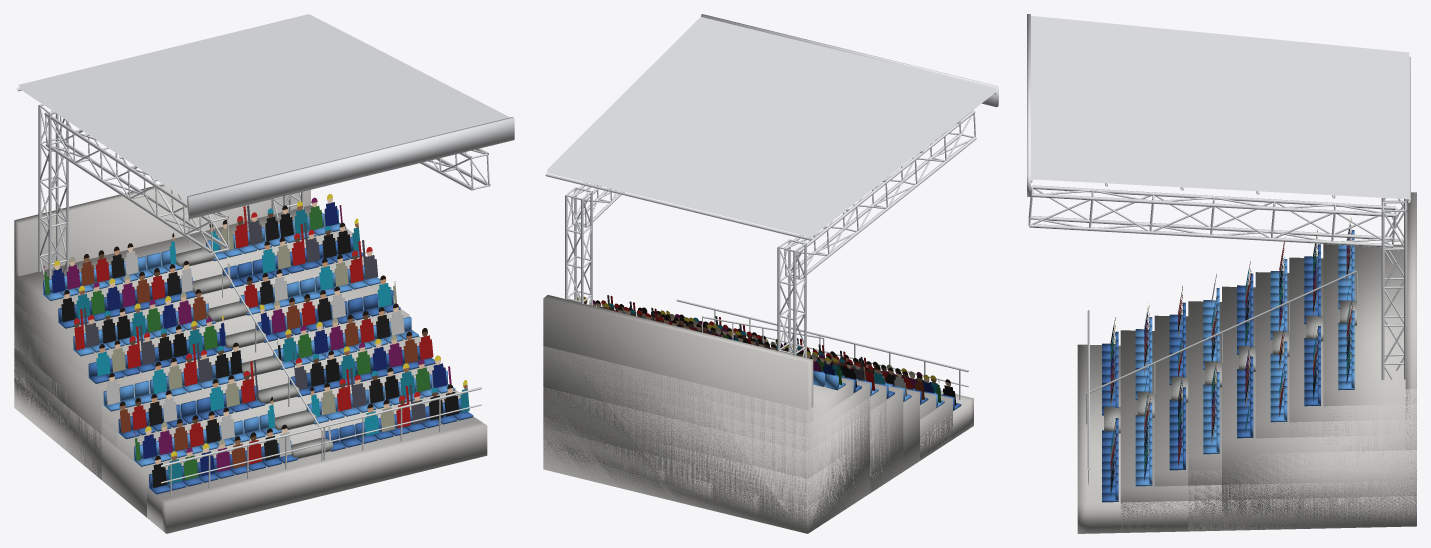
File: bay_10m_curve6_in_roof_crowd.glb
3 views of the same model, side by side, from view 1: azimuth 30°, elevation 25°; view 2: azimuth 150°, elevation 25°; view 3: azimuth 270°, elevation 25° (orthographic). The views are drawn at different scales.
Visible parts, largest first — view 1: bay_10m_curve6_in_roof_crowd; view 2: bay_10m_curve6_in_roof_crowd; view 3: bay_10m_curve6_in_roof_crowd.
Part boxes in pixels (x1=…): bay_10m_curve6_in_roof_crowd: x1=14, y1=14, x2=514, y2=533; bay_10m_curve6_in_roof_crowd: x1=543, y1=14, x2=998, y2=533; bay_10m_curve6_in_roof_crowd: x1=1027, y1=14, x2=1416, y2=533.
Size of the model in its own units: 10.17 by 10.62 by 10.4.
8 materials, 1 textured.
